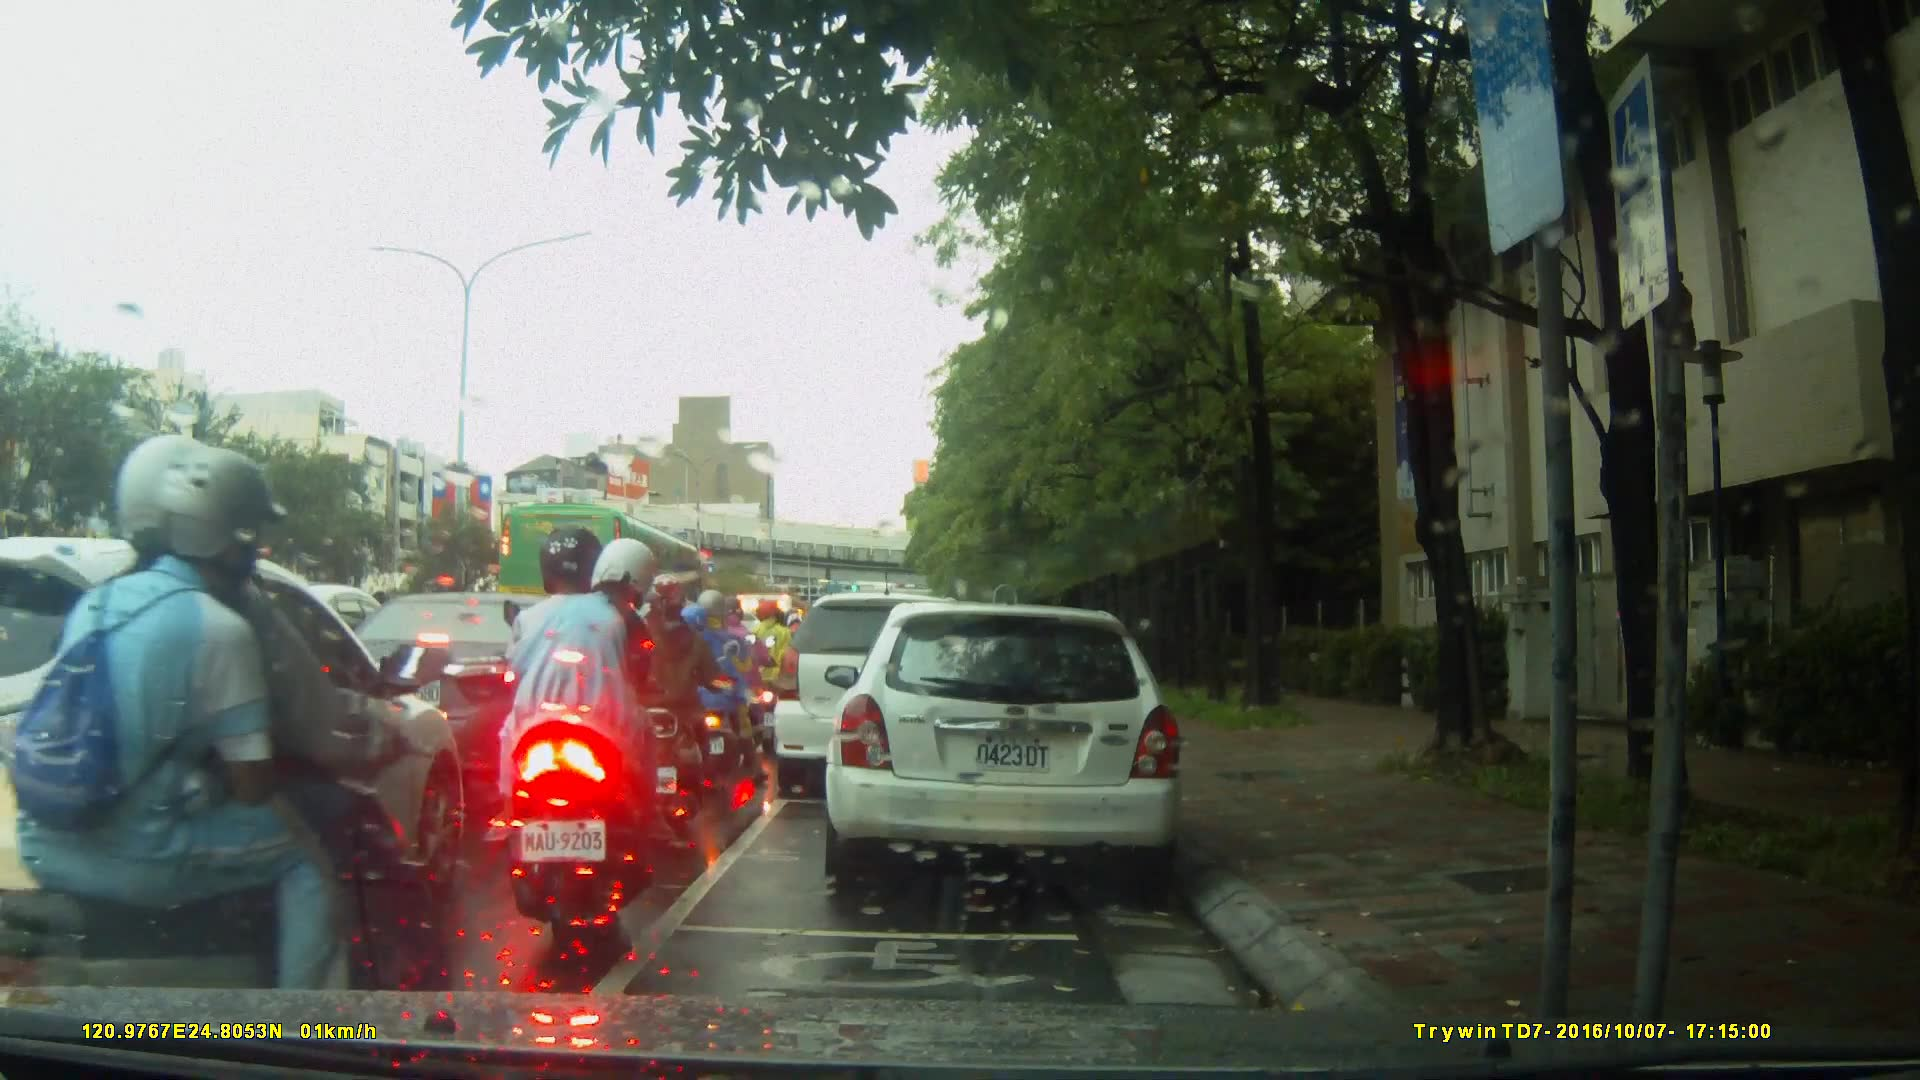rider: (1, 428, 453, 1080), (497, 525, 687, 952), (621, 574, 735, 832), (673, 589, 756, 785), (700, 598, 773, 764), (746, 598, 798, 740)
vehicle: (3, 536, 463, 988), (831, 592, 1196, 897), (312, 589, 629, 776), (772, 590, 999, 803), (495, 500, 711, 636)
